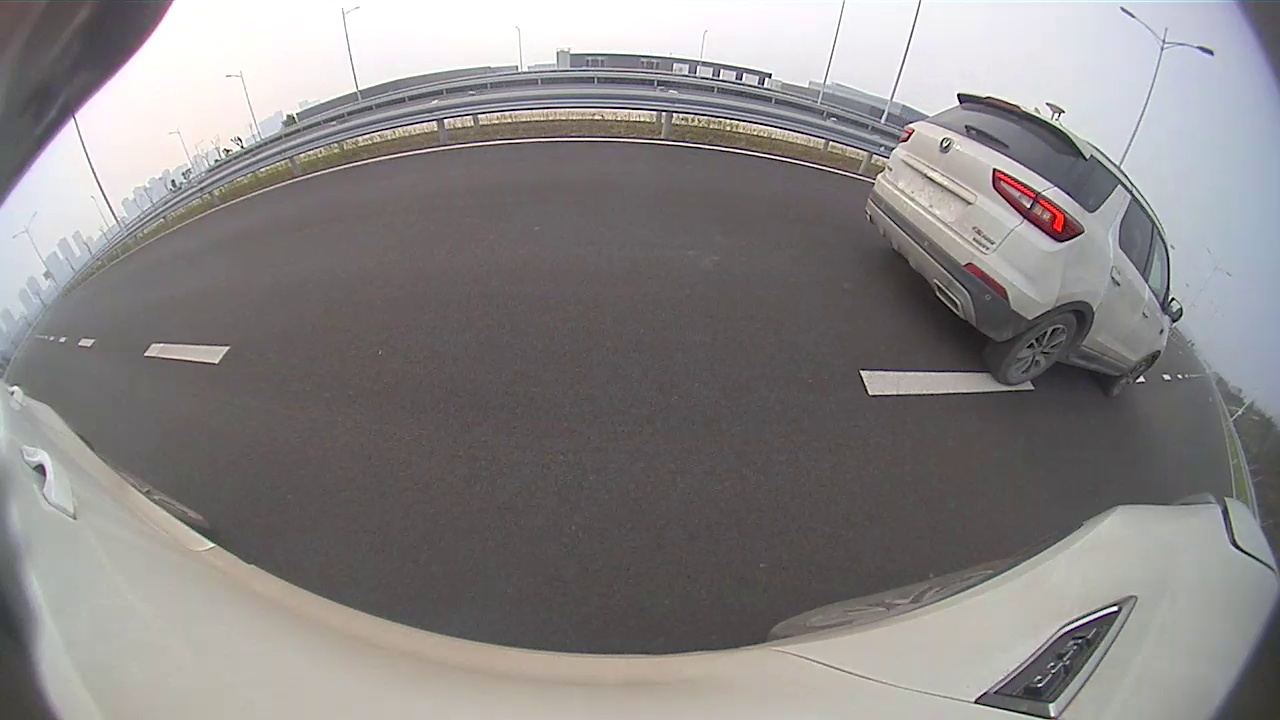car: (864, 93, 1183, 398)
front: (1114, 354, 1157, 396)
rear: (999, 308, 1080, 388)
